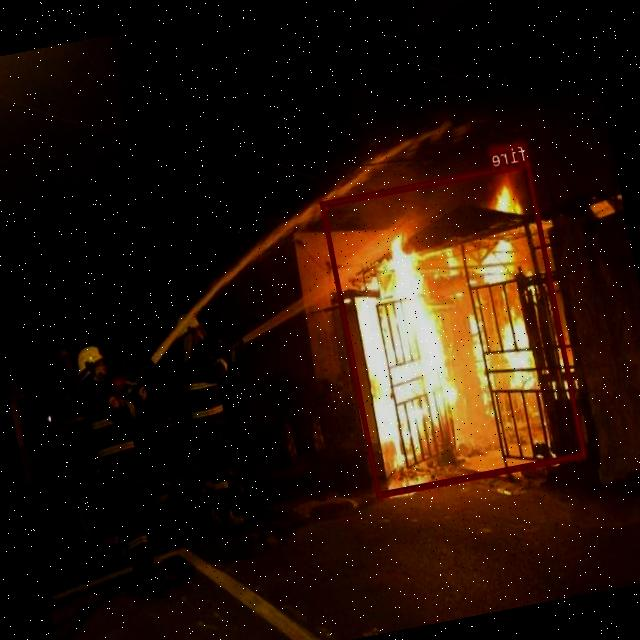fire: (320, 160, 588, 498)
